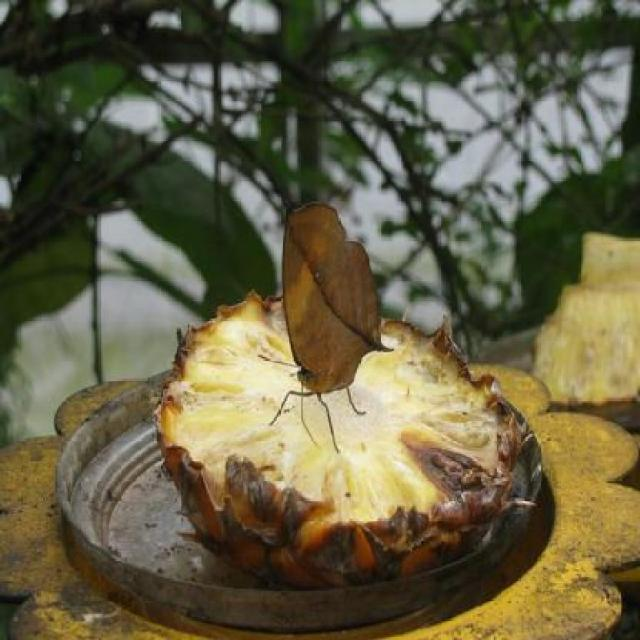Pineapple: (154, 284, 534, 590)
